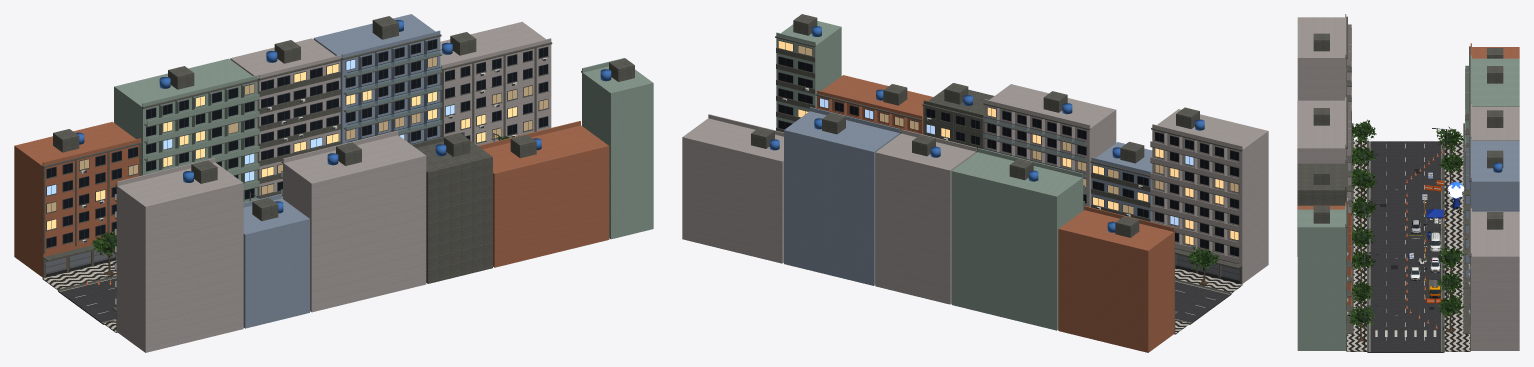
File: cena.glb
The picture shows the model from 3 angles, left to right: view 1: azimuth 30°, elevation 25°; view 2: azimuth 150°, elevation 25°; view 3: azimuth 270°, elevation 25°; orthographic projection. The views are drawn at different scales.
Parts seen in each view (by area): view 1: 02_Predios_Estatico, 01_Rua_Estatico, 03_Arvores_Postes_Estatico; view 2: 02_Predios_Estatico, 01_Rua_Estatico, 03_Arvores_Postes_Estatico; view 3: 02_Predios_Estatico, 01_Rua_Estatico, 03_Arvores_Postes_Estatico, 04_Blitz_Estrutura_Estatico, 05_Cones_Barreiras_Estatico, 06_Veiculos_Apoio_Estatico.
Part boxes in pixels (x1=…): 02_Predios_Estatico: x1=14, y1=14, x2=653, y2=352; 01_Rua_Estatico: x1=42, y1=260, x2=117, y2=332; 03_Arvores_Postes_Estatico: x1=92, y1=133, x2=519, y2=275; 02_Predios_Estatico: x1=682, y1=14, x2=1268, y2=352; 01_Rua_Estatico: x1=1174, y1=268, x2=1242, y2=334; 03_Arvores_Postes_Estatico: x1=1188, y1=245, x2=1219, y2=284; 02_Predios_Estatico: x1=1297, y1=14, x2=1519, y2=350; 01_Rua_Estatico: x1=1346, y1=140, x2=1470, y2=352; 03_Arvores_Postes_Estatico: x1=1348, y1=119, x2=1464, y2=346; 04_Blitz_Estrutura_Estatico: x1=1418, y1=181, x2=1464, y2=283; 05_Cones_Barreiras_Estatico: x1=1405, y1=149, x2=1444, y2=328; 06_Veiculos_Apoio_Estatico: x1=1428, y1=232, x2=1441, y2=298.
Bounding box in the file's own units: 92 × 27.75 × 41.
Materials: 165 (58 with a texture image).
